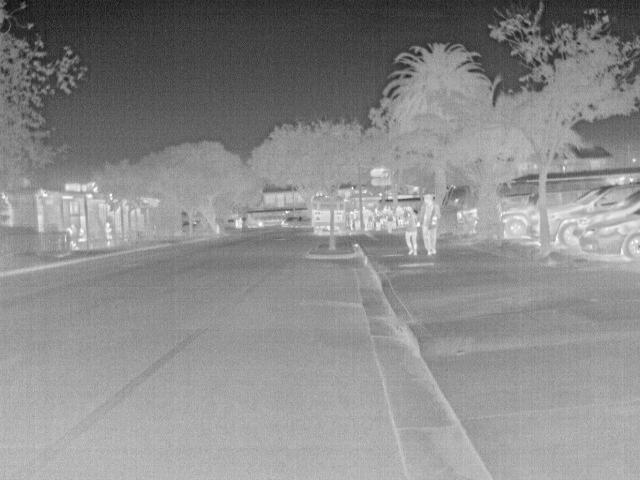car: (544, 181, 637, 247), (579, 204, 639, 266), (501, 204, 536, 239), (453, 207, 477, 233)
person: (418, 192, 439, 258), (401, 205, 421, 258), (64, 224, 78, 250), (102, 220, 114, 248), (385, 209, 396, 235), (75, 227, 88, 242), (237, 214, 244, 228), (233, 218, 239, 230)
